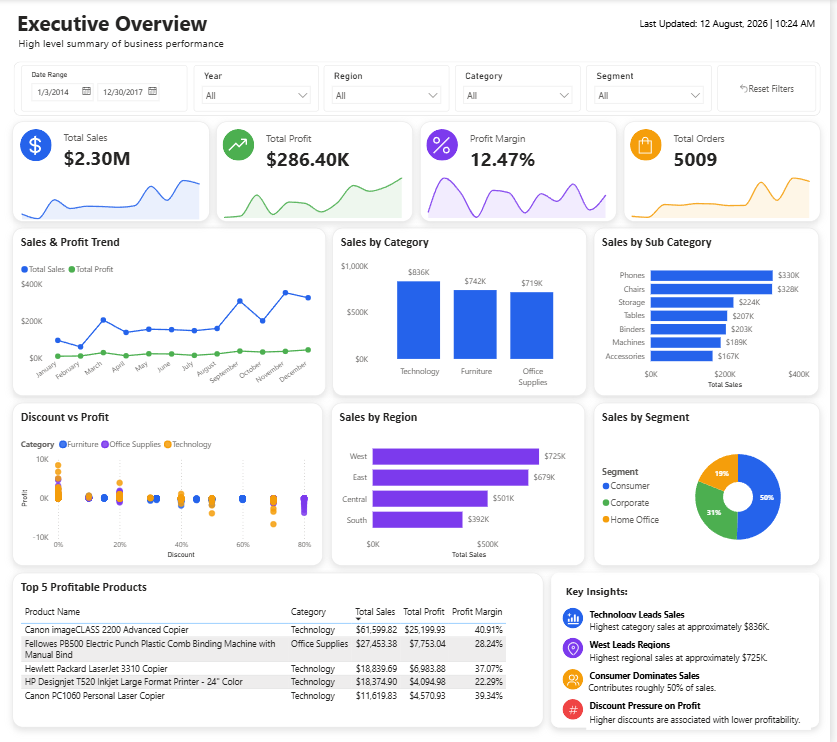

What the dashboard file says about the page in this screenshot:
{"tool":"powerbi","page":{"name":"Executive Overview","canvas":[1280,1150],"ordinal":0},"visuals":[{"type":"shape","box":[19,188,304,154],"z":0,"group":"g2"},{"type":"shape","box":[333,188,303,154],"z":0,"group":"g4"},{"type":"shape","box":[647,188,303,154],"z":0,"group":"g5"},{"type":"shape","box":[961,188,303,154],"z":0,"group":"g6"},{"type":"lineChart","title":"Sales & Profit Trend","fields":{"Category":["Calendar.Month"],"Y":["Superstore.Total Sales","Superstore.Total Profit"]},"box":[19,353,483,259],"z":0},{"type":"cardVisual","fields":{"Data":["Superstore.Total Sales"]},"box":[80,197,208,69],"z":1000,"group":"g2"},{"type":"cardVisual","fields":{"Data":["Superstore.Total Profit"]},"box":[393,199,207.9,69],"z":1000,"group":"g4"},{"type":"cardVisual","fields":{"Data":["Superstore.Profit Margin"]},"box":[707,199,207.9,69],"z":1000,"group":"g5"},{"type":"cardVisual","fields":{"Data":["Superstore.Total Orders"]},"box":[1021,199,207.9,69],"z":1000,"group":"g6"},{"type":"columnChart","title":"Sales by Category","fields":{"Y":["Superstore.Total Sales"],"Category":["Superstore.Category"]},"box":[512,353,392,259],"z":1000},{"type":"areaChart","fields":{"Category":["Calendar.Month"],"Y":["Superstore.Total Profit"]},"box":[332,261.3,303,80.7],"z":2000,"group":"g4"},{"type":"areaChart","fields":{"Category":["Calendar.Month"],"Y":["Superstore.Profit Margin"]},"box":[646,261.3,303,80.7],"z":2000,"group":"g5"},{"type":"areaChart","fields":{"Category":["Calendar.Month"],"Y":["Superstore.Total Orders"]},"box":[960,261.3,303,80.7],"z":2000,"group":"g6"},{"type":"areaChart","fields":{"Y":["Superstore.Total Sales"],"Category":["Calendar.Month"]},"box":[19,265,303,79],"z":2000,"group":"g2"},{"type":"clusteredBarChart","title":"Sales by Sub Category","fields":{"Y":["Superstore.Total Sales"],"Category":["Superstore.Sub-Category"]},"box":[916,353,347,259],"z":2000},{"type":"scatterChart","title":"Discount vs Profit","fields":{"X":["Superstore.Discount"],"Y":["Superstore.Profit"],"Series":["Superstore.Category"]},"box":[18.6,622.9,478.6,251.4],"z":3000},{"type":"clusteredBarChart","title":"Sales by Region","fields":{"Y":["Superstore.Total Sales"],"Category":["Superstore.Region"]},"box":[511.4,622.9,391.4,251.4],"z":4000},{"type":"donutChart","title":"Sales by Segment","fields":{"Y":["Superstore.Total Sales"],"Category":["Superstore.Segment"]},"box":[915.7,622.9,348.6,251.4],"z":5000},{"type":"tableEx","title":"Top 5 Profitable Products","fields":{"Values":["Superstore.Product Name","Superstore.Category","Superstore.Total Sales","Superstore.Total Profit","Superstore.Profit Margin"]},"box":[18.8,885,818.8,238.8],"z":6000},{"type":"group","id":"g1","title":"Group 2","box":[21,96,1243.7,83.7],"z":7000},{"type":"group","id":"g2","title":"Group 1","box":[19,188,304,156],"z":7000,"group":"g3"},{"type":"shape","box":[21,96,1243.8,83.8],"z":8000,"group":"g1"},{"type":"group","id":"g3","title":"Group 4","box":[19,188,304,156],"z":8000},{"type":"group","id":"g4","title":"Group 4","box":[332,188,304,154],"z":9000},{"type":"shape","box":[344.4,199,49,49],"z":9000,"group":"g7"},{"type":"shape","box":[658.4,199,49,49],"z":9000,"group":"g8"},{"type":"shape","box":[972.4,199,49,49],"z":9000,"group":"g9"},{"type":"shape","box":[31,199.8,49,49.8],"z":9000,"group":"g10"},{"type":"shape","box":[868.1,937.7,31.9,31.9],"z":9000,"group":"g11"},{"type":"shape","box":[868.1,985.1,31.9,31.9],"z":9000,"group":"g12"},{"type":"shape","box":[868.1,1032.5,31.9,31.9],"z":9000,"group":"g13"},{"type":"shape","box":[868.1,1080,31.9,31.9],"z":9000,"group":"g14"},{"type":"textbox","box":[22,10,329,59],"z":10000},{"type":"slicer","fields":{"Values":["Calendar.Year"]},"box":[298.2,102.1,193,71],"z":10000,"group":"g1"},{"type":"textbox","box":[23,52,340.9,33.6],"z":11000},{"type":"slicer","fields":{"Values":["Superstore.Region"]},"box":[499.6,102.5,193.3,71.3],"z":11000,"group":"g1"},{"type":"textbox","box":[981,23,281,34],"z":12000},{"type":"slicer","fields":{"Values":["Superstore.Category"]},"box":[701.6,102.5,193.3,71.3],"z":12000,"group":"g1"},{"type":"slicer","fields":{"Values":["Superstore.Segment"]},"box":[903.6,102.5,193.3,71.3],"z":13000,"group":"g1"},{"type":"group","id":"g5","title":"Group 4","box":[646,188,304,154],"z":13000},{"type":"slicer","fields":{"Values":["Calendar.Date"]},"box":[33.2,102.1,256,71],"z":14000,"group":"g1"},{"type":"group","id":"g6","title":"Group 4","box":[960,188,304,154],"z":14000},{"type":"actionButton","box":[1104.9,102.5,152,71.3],"z":15000,"group":"g1"},{"type":"shape","box":[849.8,885,412.5,238.8],"z":15000},{"type":"image","box":[348.9,206.9,39.3,34.8],"z":15002,"group":"g7"},{"type":"image","box":[662.9,206.9,39.3,34.8],"z":15002,"group":"g8"},{"type":"image","box":[976.9,206.9,39.3,34.8],"z":15002,"group":"g9"},{"type":"image","box":[35.5,207.8,39.3,35.3],"z":15002,"group":"g10"},{"type":"image","box":[915.5,684.9,39.3,6],"z":15002,"group":"g15"},{"type":"image","box":[871,942.8,25.6,22.6],"z":15002,"group":"g11"},{"type":"image","box":[871,990.2,25.6,22.6],"z":15002,"group":"g12"},{"type":"image","box":[871,1037.6,25.6,22.6],"z":15002,"group":"g13"},{"type":"image","box":[871,1085.1,25.6,22.6],"z":15002,"group":"g14"},{"type":"group","id":"g7","title":"Group 3","box":[344.4,199,49,49],"z":15003,"group":"g4"},{"type":"group","id":"g8","title":"Group 3","box":[658.4,199,49,49],"z":15003,"group":"g5"},{"type":"group","id":"g9","title":"Group 3","box":[972.4,199,49,49],"z":15003,"group":"g6"},{"type":"group","id":"g10","title":"Group 3","box":[31,199.8,49,49.8],"z":15003,"group":"g3"},{"type":"textbox","box":[867.8,896,106,34],"z":16000},{"type":"group","id":"g11","title":"Group 3","box":[868.1,937.7,31.7,31.7],"z":16000,"group":"g16"},{"type":"group","id":"g12","title":"Group 3","box":[868.1,985.1,31.7,31.7],"z":16000,"group":"g17"},{"type":"group","id":"g13","title":"Group 3","box":[868.1,1032.5,31.7,31.7],"z":16000,"group":"g18"},{"type":"group","id":"g14","title":"Group 3","box":[868.1,1080,31.7,31.7],"z":16000,"group":"g19"},{"type":"group","id":"g15","title":"Group 3","box":[915.5,684.9,39.3,6],"z":17000},{"type":"group","id":"g16","title":"Group 5","box":[868.1,934.1,381.2,49.9],"z":18000},{"type":"textbox","box":[905.4,934.1,170.9,34.5],"z":18000,"group":"g16"},{"type":"textbox","box":[904.5,981.8,154.5,34.5],"z":18000,"group":"g17"},{"type":"textbox","box":[905.4,1029,188.2,34.5],"z":18000,"group":"g18"},{"type":"textbox","box":[905.4,1075.3,196.4,35.5],"z":18000,"group":"g19"},{"type":"group","id":"g17","title":"Group 5","box":[868.1,981.8,369.6,50.3],"z":19000},{"type":"textbox","box":[904.3,954,345,30],"z":20000,"group":"g16"},{"type":"textbox","box":[903.9,1002.1,333.8,30],"z":20000,"group":"g17"},{"type":"group","id":"g18","title":"Group 5","box":[868.1,1029,385.2,50],"z":20000},{"type":"textbox","box":[903.3,1049,350,30],"z":20000,"group":"g18"},{"type":"textbox","box":[904.3,1096.2,346.2,30],"z":20000,"group":"g19"},{"type":"group","id":"g19","title":"Group 5","box":[868.1,1075.3,382.5,50.9],"z":21000}]}

Visuals, with their boxes in screenshot pixels (x1, y1, x2, y2), scaled from the page's 1280x1150 canvas onto the 837x742 screenshot:
shape: pyautogui.locateOnScreen(12, 121, 211, 221)
shape: pyautogui.locateOnScreen(218, 121, 416, 221)
shape: pyautogui.locateOnScreen(423, 121, 621, 221)
shape: pyautogui.locateOnScreen(628, 121, 827, 221)
"Sales & Profit Trend" lineChart: pyautogui.locateOnScreen(12, 228, 328, 395)
cardVisual - Superstore.Total Sales: pyautogui.locateOnScreen(52, 127, 188, 172)
cardVisual - Superstore.Total Profit: pyautogui.locateOnScreen(257, 128, 393, 173)
cardVisual - Superstore.Profit Margin: pyautogui.locateOnScreen(462, 128, 598, 173)
cardVisual - Superstore.Total Orders: pyautogui.locateOnScreen(668, 128, 804, 173)
"Sales by Category" columnChart: pyautogui.locateOnScreen(335, 228, 591, 395)
areaChart - Calendar.Month x Superstore.Total Profit: pyautogui.locateOnScreen(217, 169, 415, 221)
areaChart - Calendar.Month x Superstore.Profit Margin: pyautogui.locateOnScreen(422, 169, 621, 221)
areaChart - Calendar.Month x Superstore.Total Orders: pyautogui.locateOnScreen(628, 169, 826, 221)
areaChart - Superstore.Total Sales x Calendar.Month: pyautogui.locateOnScreen(12, 171, 211, 222)
"Sales by Sub Category" clusteredBarChart: pyautogui.locateOnScreen(599, 228, 826, 395)
"Discount vs Profit" scatterChart: pyautogui.locateOnScreen(12, 402, 325, 564)
"Sales by Region" clusteredBarChart: pyautogui.locateOnScreen(334, 402, 590, 564)
"Sales by Segment" donutChart: pyautogui.locateOnScreen(599, 402, 827, 564)
"Top 5 Profitable Products" tableEx: pyautogui.locateOnScreen(12, 571, 548, 725)
"Group 2" group: pyautogui.locateOnScreen(14, 62, 827, 116)
"Group 1" group: pyautogui.locateOnScreen(12, 121, 211, 222)
shape: pyautogui.locateOnScreen(14, 62, 827, 116)
"Group 4" group: pyautogui.locateOnScreen(12, 121, 211, 222)
"Group 4" group: pyautogui.locateOnScreen(217, 121, 416, 221)
shape: pyautogui.locateOnScreen(225, 128, 257, 160)
shape: pyautogui.locateOnScreen(431, 128, 463, 160)
shape: pyautogui.locateOnScreen(636, 128, 668, 160)
shape: pyautogui.locateOnScreen(20, 129, 52, 161)
shape: pyautogui.locateOnScreen(568, 605, 589, 626)
shape: pyautogui.locateOnScreen(568, 636, 589, 656)
shape: pyautogui.locateOnScreen(568, 666, 589, 687)
shape: pyautogui.locateOnScreen(568, 697, 589, 717)
textbox: pyautogui.locateOnScreen(14, 6, 230, 45)
slicer - Calendar.Year: pyautogui.locateOnScreen(195, 66, 321, 112)
textbox: pyautogui.locateOnScreen(15, 34, 238, 55)
slicer - Superstore.Region: pyautogui.locateOnScreen(327, 66, 453, 112)
textbox: pyautogui.locateOnScreen(641, 15, 825, 37)
slicer - Superstore.Category: pyautogui.locateOnScreen(459, 66, 585, 112)
slicer - Superstore.Segment: pyautogui.locateOnScreen(591, 66, 717, 112)
"Group 4" group: pyautogui.locateOnScreen(422, 121, 621, 221)
slicer - Calendar.Date: pyautogui.locateOnScreen(22, 66, 189, 112)
"Group 4" group: pyautogui.locateOnScreen(628, 121, 827, 221)
actionButton: pyautogui.locateOnScreen(723, 66, 822, 112)
shape: pyautogui.locateOnScreen(556, 571, 825, 725)
image: pyautogui.locateOnScreen(228, 133, 254, 156)
image: pyautogui.locateOnScreen(433, 133, 459, 156)
image: pyautogui.locateOnScreen(639, 133, 664, 156)
image: pyautogui.locateOnScreen(23, 134, 49, 157)
image: pyautogui.locateOnScreen(599, 442, 624, 446)
image: pyautogui.locateOnScreen(570, 608, 586, 623)
image: pyautogui.locateOnScreen(570, 639, 586, 653)
image: pyautogui.locateOnScreen(570, 669, 586, 684)
image: pyautogui.locateOnScreen(570, 700, 586, 715)
"Group 3" group: pyautogui.locateOnScreen(225, 128, 257, 160)
"Group 3" group: pyautogui.locateOnScreen(431, 128, 463, 160)
"Group 3" group: pyautogui.locateOnScreen(636, 128, 668, 160)
"Group 3" group: pyautogui.locateOnScreen(20, 129, 52, 161)
textbox: pyautogui.locateOnScreen(567, 578, 637, 600)
"Group 3" group: pyautogui.locateOnScreen(568, 605, 588, 625)
"Group 3" group: pyautogui.locateOnScreen(568, 636, 588, 656)
"Group 3" group: pyautogui.locateOnScreen(568, 666, 588, 687)
"Group 3" group: pyautogui.locateOnScreen(568, 697, 588, 717)
"Group 3" group: pyautogui.locateOnScreen(599, 442, 624, 446)
"Group 5" group: pyautogui.locateOnScreen(568, 603, 817, 635)
textbox: pyautogui.locateOnScreen(592, 603, 704, 625)
textbox: pyautogui.locateOnScreen(591, 633, 692, 656)
textbox: pyautogui.locateOnScreen(592, 664, 715, 686)
textbox: pyautogui.locateOnScreen(592, 694, 720, 717)
"Group 5" group: pyautogui.locateOnScreen(568, 633, 809, 666)
textbox: pyautogui.locateOnScreen(591, 616, 817, 635)
textbox: pyautogui.locateOnScreen(591, 647, 809, 666)
"Group 5" group: pyautogui.locateOnScreen(568, 664, 820, 696)
textbox: pyautogui.locateOnScreen(591, 677, 820, 696)
textbox: pyautogui.locateOnScreen(591, 707, 818, 727)
"Group 5" group: pyautogui.locateOnScreen(568, 694, 818, 727)
